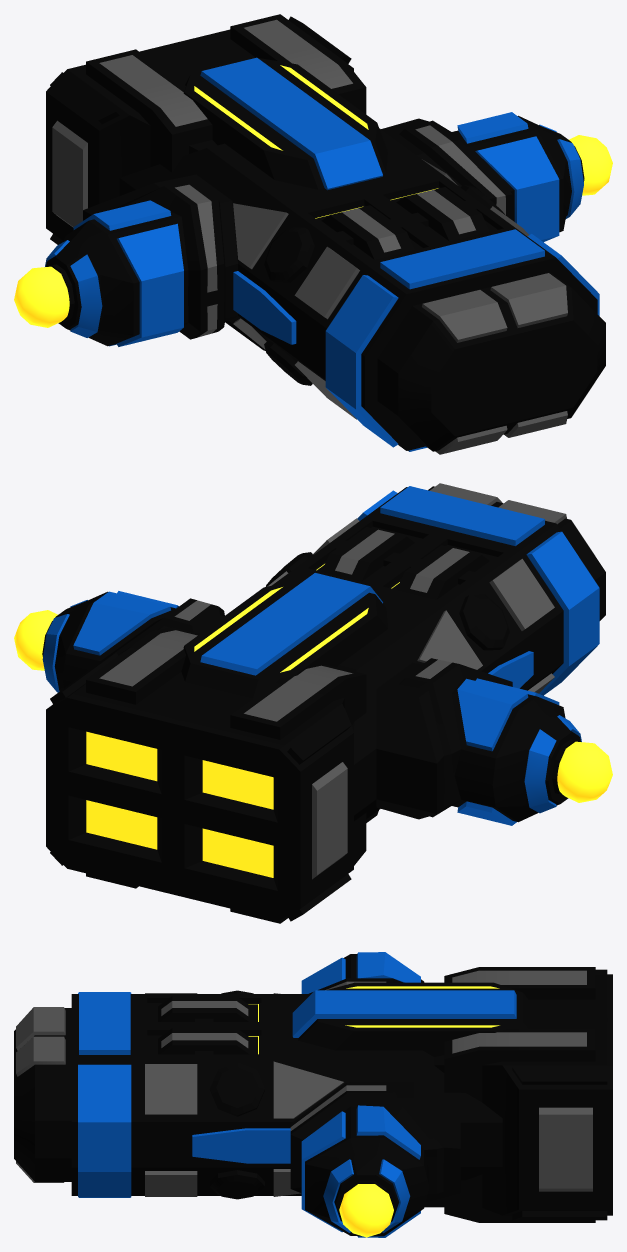
The model's file is 01_ship_heavy_wernos.glb.
3 renders of one model, top to bottom at view 1: azimuth 30°, elevation 25°; view 2: azimuth 150°, elevation 25°; view 3: azimuth 270°, elevation 25°, orthographic. The views are drawn at different scales.
Parts seen in each view (by area): view 1: 01_ship_heavy_wernos; view 2: 01_ship_heavy_wernos; view 3: 01_ship_heavy_wernos.
Boxes of the visible parts, left/top/right/bottom form: 01_ship_heavy_wernos: left=14, top=14, right=612, bottom=454; 01_ship_heavy_wernos: left=14, top=483, right=612, bottom=923; 01_ship_heavy_wernos: left=14, top=952, right=612, bottom=1237.
Bounding box in the file's own units: 0.8691 × 0.2976 × 0.8709.
